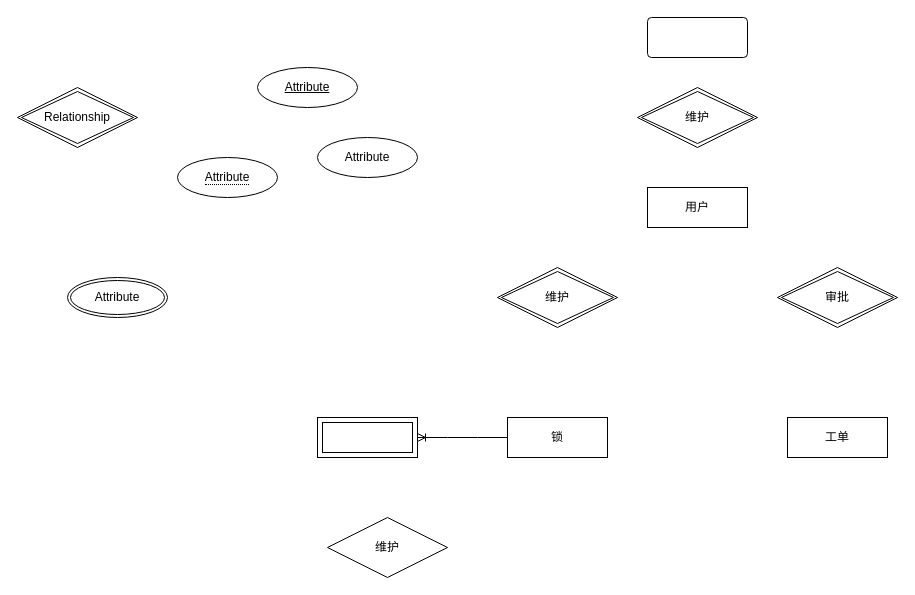
Some shapes in this 915 by 595 pixel diagram are drawn without their labels. Each missing label, with the centre of its shape:
角色: (x=697, y=37)
锁日志: (x=367, y=437)
